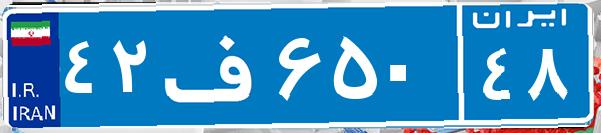0: (385, 28, 445, 110)
2: (110, 28, 158, 105)
4: (57, 26, 110, 107), (475, 38, 525, 113)
5: (330, 28, 385, 110)
6: (273, 28, 330, 110)
8: (525, 38, 570, 115)
ف: (158, 15, 273, 115)
